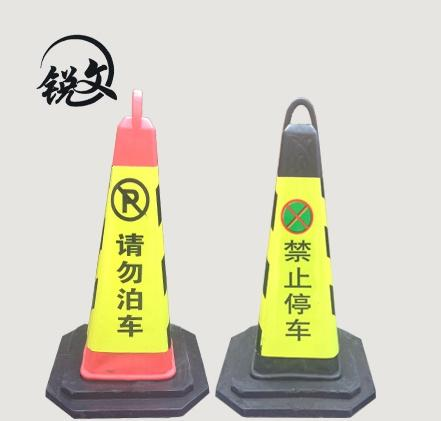cone_barrel: (67, 99, 191, 389), (235, 118, 355, 384)
